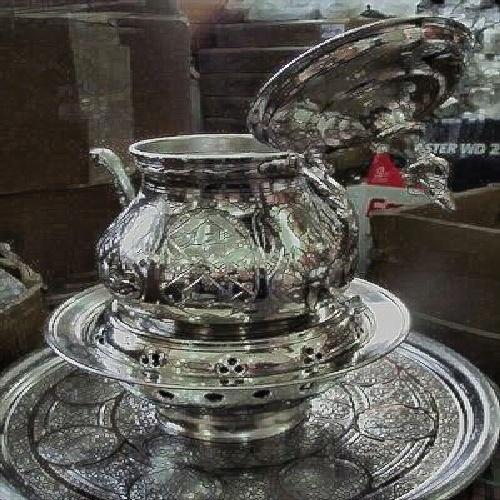kettle: (51, 88, 442, 468)
